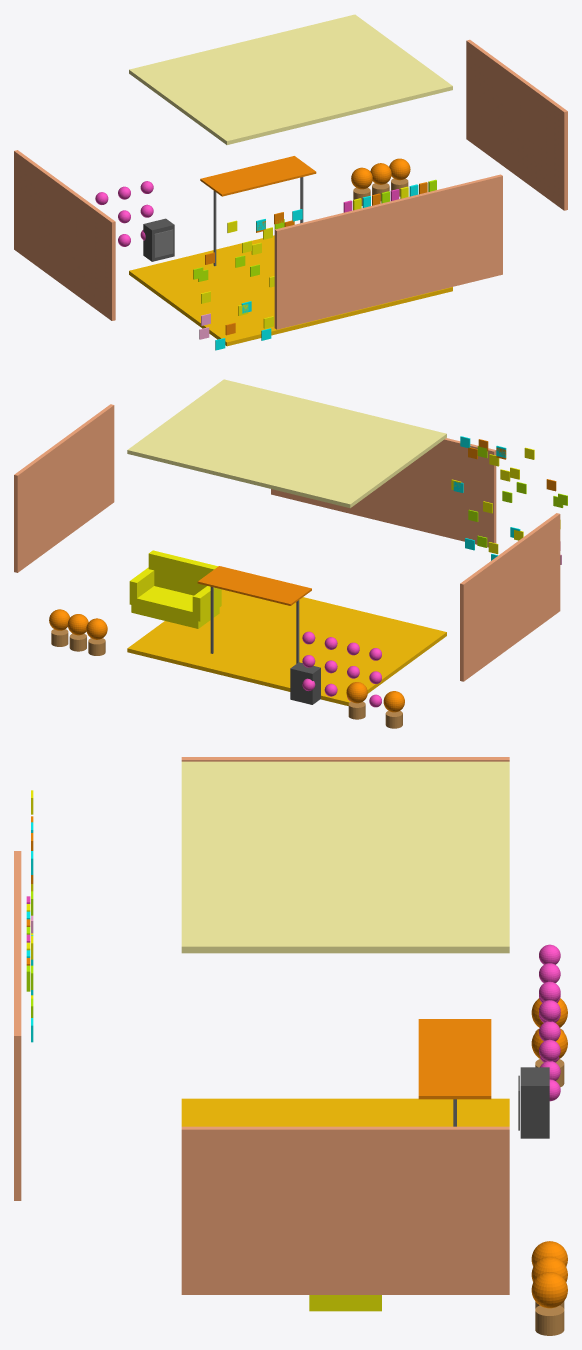
The model's file is baked_nova_room.glb.
3 renders of one model, top to bottom at view 1: azimuth 30°, elevation 25°; view 2: azimuth 150°, elevation 25°; view 3: azimuth 270°, elevation 25°, orthographic. The views are drawn at different scales.
Parts seen in each view (by area): view 1: BackWall, Ceiling, LeftWall, RightWall, Floor, DeskNova, Speaker, SpeakerFront; view 2: Ceiling, Floor, LeftWall, RightWall, BackWall, DeskNova, SofaBase, SofaBack, Speaker, SofaArmL, SofaArmR; view 3: Ceiling, RightWall, Floor, DeskNova, BackWall, Speaker, LeftWall, Plant_3, SofaBase, PlantPot_3.
Boxes of the visible parts, <box> form: BackWall: <box>274,174,502,329</box>; Ceiling: <box>129,14,452,144</box>; LeftWall: <box>14,150,115,320</box>; RightWall: <box>466,39,567,210</box>; Floor: <box>129,235,452,346</box>; DeskNova: <box>200,156,316,196</box>; Speaker: <box>143,218,174,261</box>; SpeakerFront: <box>154,229,173,257</box>; Ceiling: <box>127,379,446,508</box>; Floor: <box>127,589,446,705</box>; LeftWall: <box>460,513,560,681</box>; RightWall: <box>14,404,114,572</box>; BackWall: <box>271,438,496,547</box>; DeskNova: <box>197,566,311,605</box>; SofaBase: <box>131,586,219,628</box>; SofaBack: <box>148,550,217,595</box>; Speaker: <box>290,662,320,704</box>; SofaArmL: <box>192,586,221,621</box>; SofaArmR: <box>129,567,154,605</box>; Ceiling: <box>181,761,509,953</box>; RightWall: <box>181,1126,509,1294</box>; Floor: <box>181,1098,509,1126</box>; DeskNova: <box>418,1019,491,1099</box>; BackWall: <box>14,851,21,1200</box>; Speaker: <box>520,1067,549,1138</box>; LeftWall: <box>181,757,509,761</box>; Plant_3: <box>531,1272,567,1308</box>; SofaBase: <box>309,1299,381,1311</box>; PlantPot_3: <box>535,1305,564,1335</box>.
Bounding box in the file's own units: 1210 × 520 × 760.
